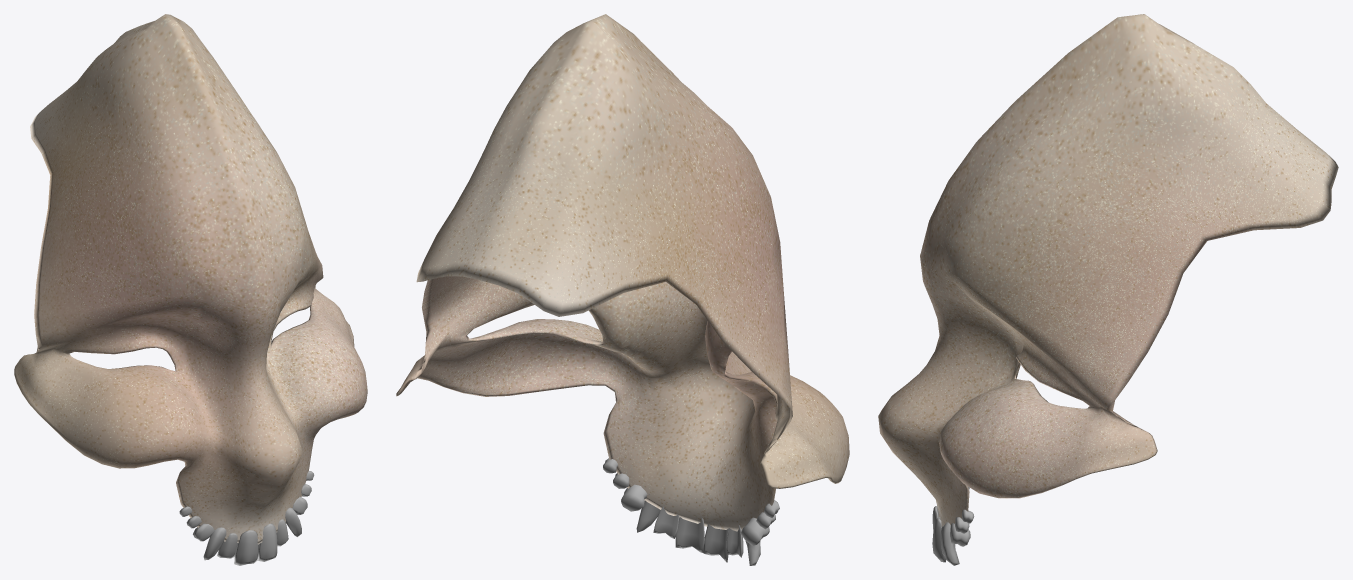
Rendered from demon.fbx.
3 views of the same model, side by side, from view 1: azimuth 30°, elevation 25°; view 2: azimuth 150°, elevation 25°; view 3: azimuth 270°, elevation 25° (orthographic). The views are drawn at different scales.
Parts seen in each view (by area): view 1: Plane.003, Cube.003; view 2: Plane.003, Cube.003; view 3: Plane.003, Cube.003.
Boxes of the visible parts, x1,y1,x2,y2 form: Plane.003: [14, 14, 367, 544]; Cube.003: [179, 471, 314, 565]; Plane.003: [396, 14, 849, 531]; Cube.003: [603, 458, 779, 565]; Plane.003: [878, 14, 1338, 526]; Cube.003: [932, 486, 974, 565].
Bounding box in the file's own units: 78.9 × 113 × 88.04.
